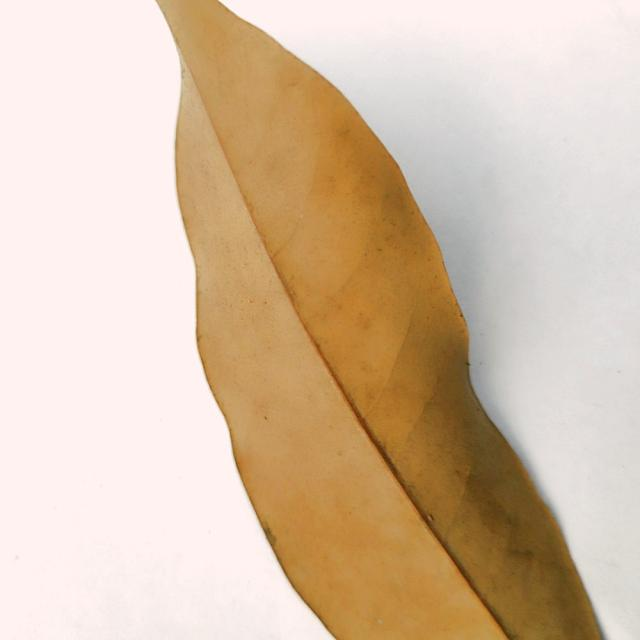Dry_Leaf-Lychee: (158, 0, 605, 639)
